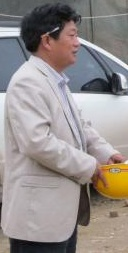hard-hat: (92, 160, 128, 198)
